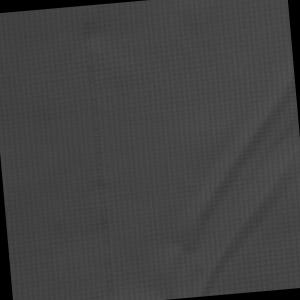Wrinkle: (130, 66, 300, 300)
